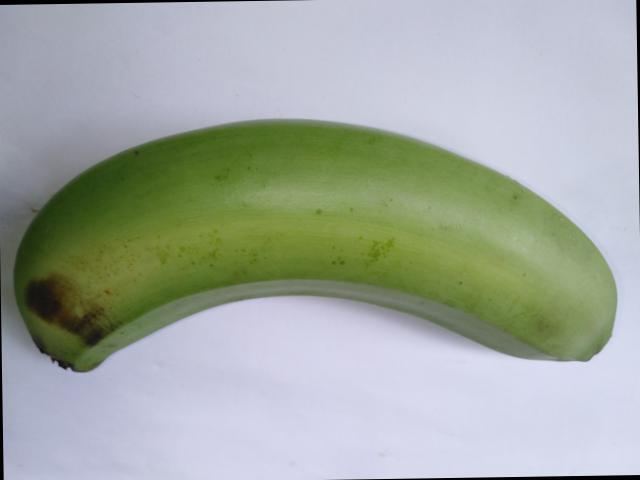freshunripe: (3, 109, 636, 407)
